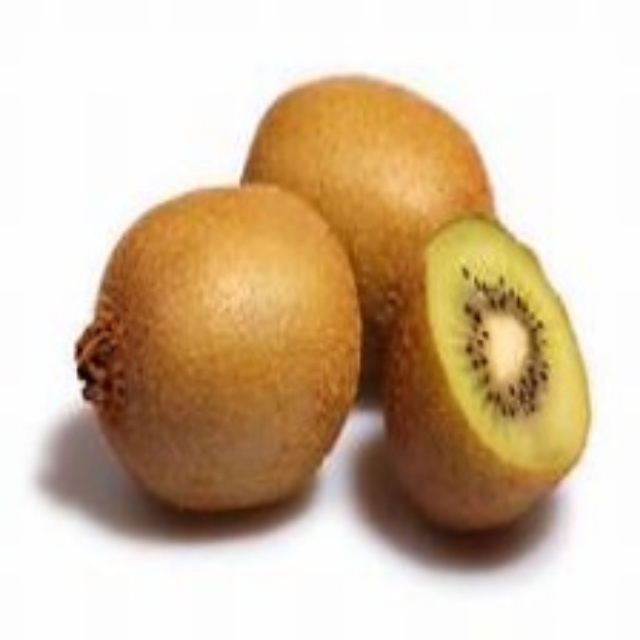kiwi: (87, 193, 356, 515), (377, 219, 602, 551), (236, 70, 506, 315)
